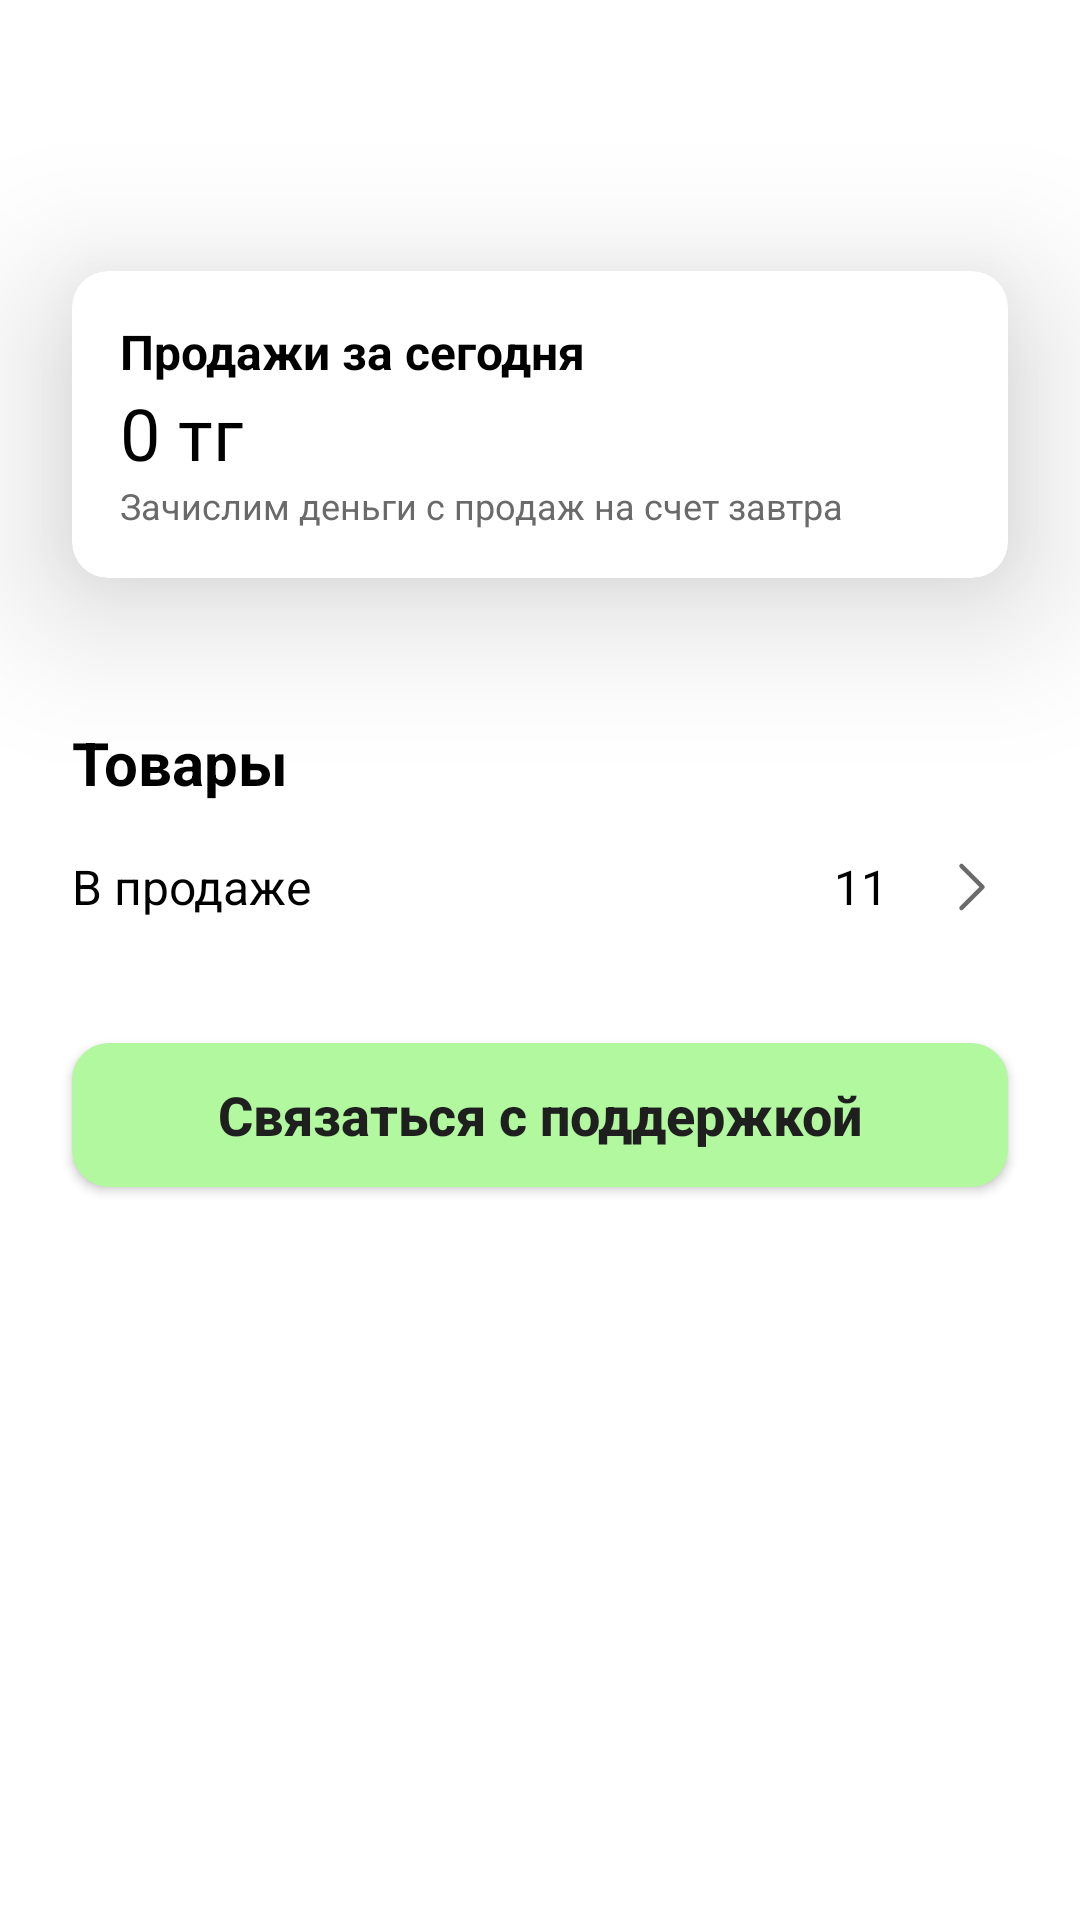

Named icons in this screenshot (1080×1920) and their bounding boxes, (x1, y1, x2, y2):
next: (959, 863, 985, 911)
